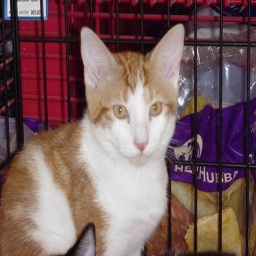cat: (3, 27, 183, 256)
